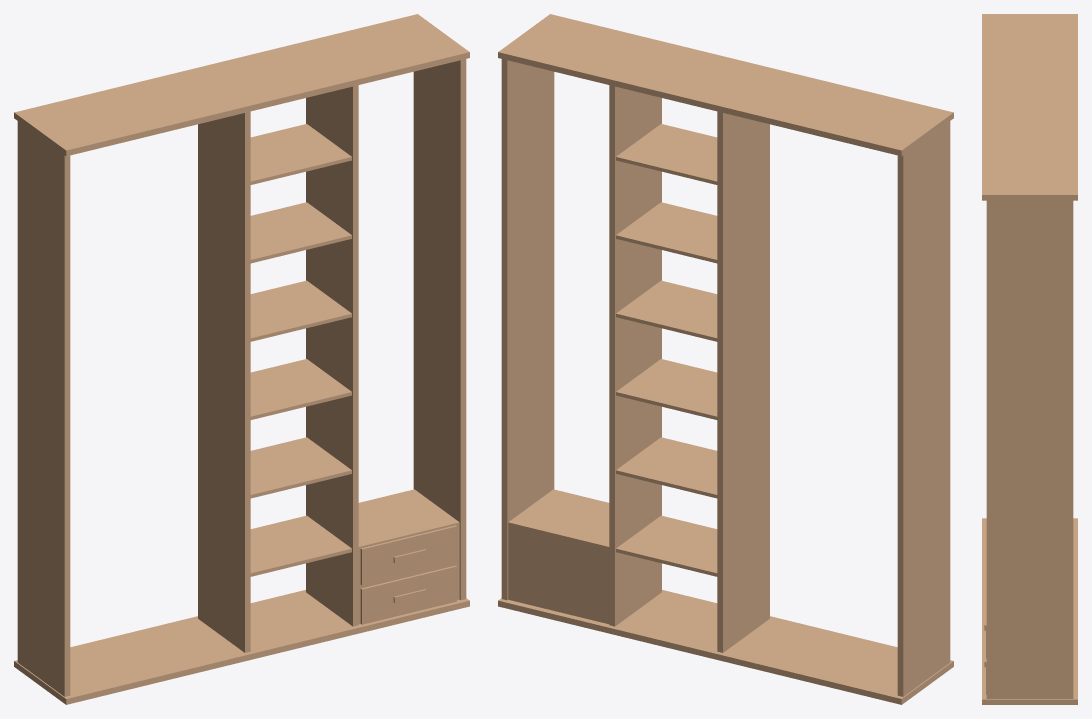
The model's file is shelf-large.glb.
The picture shows the model from 3 angles, left to right: view 1: azimuth 30°, elevation 25°; view 2: azimuth 150°, elevation 25°; view 3: azimuth 270°, elevation 25°; orthographic projection. The views are drawn at different scales.
Parts seen in each view (by area): view 1: Shelf_Large; view 2: Shelf_Large; view 3: Shelf_Large.
Boxes of the visible parts, left/top/right/bottom form: Shelf_Large: left=14, top=14, right=469, bottom=704; Shelf_Large: left=498, top=14, right=953, bottom=704; Shelf_Large: left=982, top=14, right=1077, bottom=704.
Bounding box in the file's own units: 3.38 × 4.44 × 0.7558.
